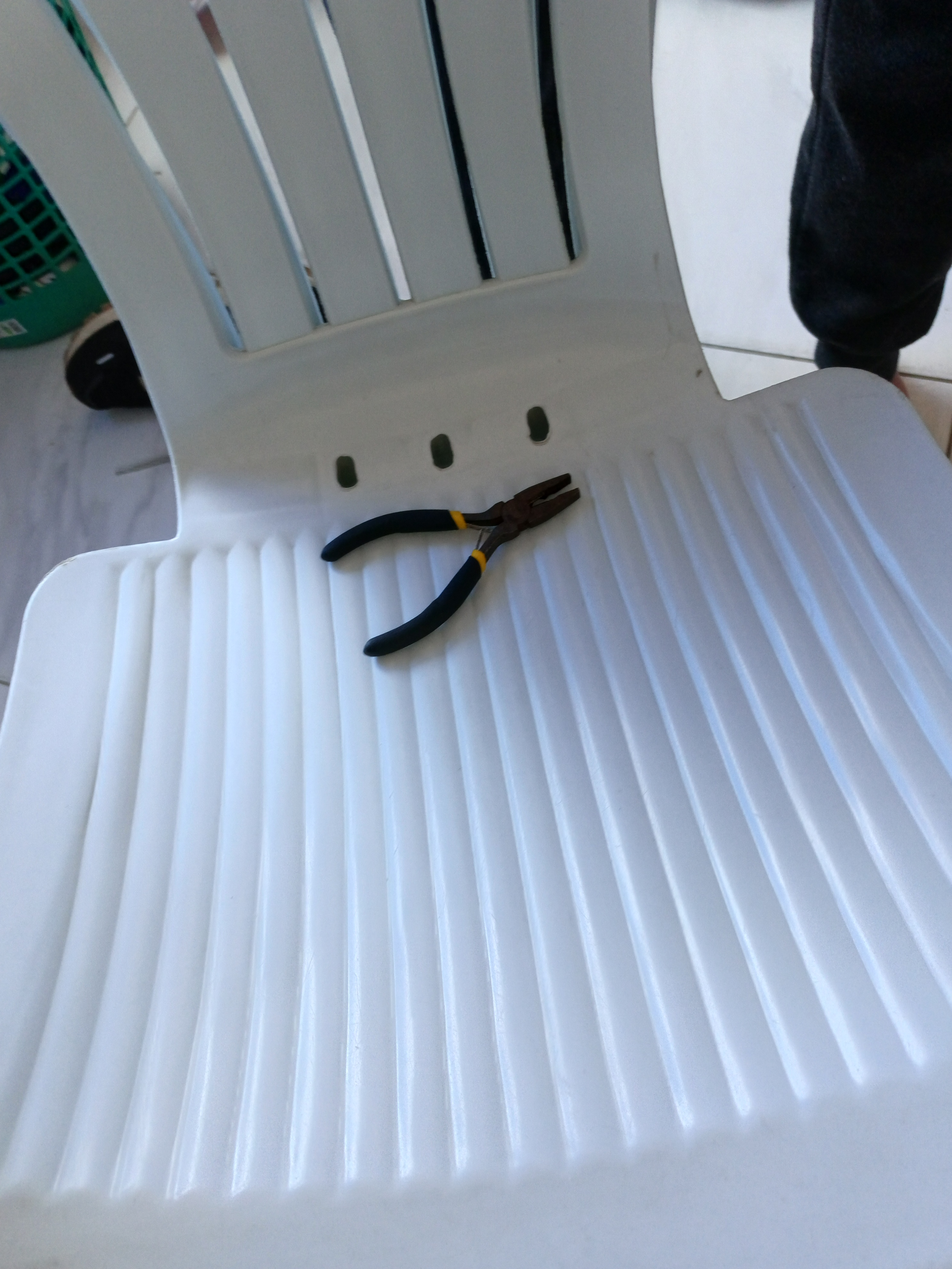Pinzas: (321, 473, 579, 656)
